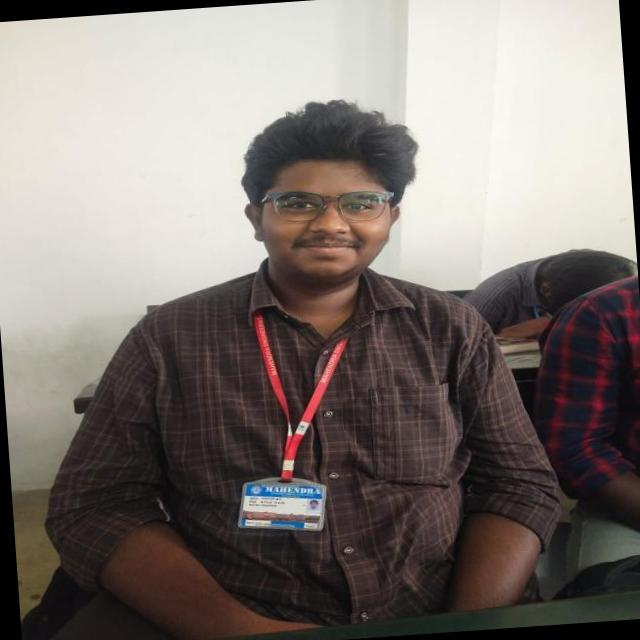id_card: (219, 312, 355, 540)
